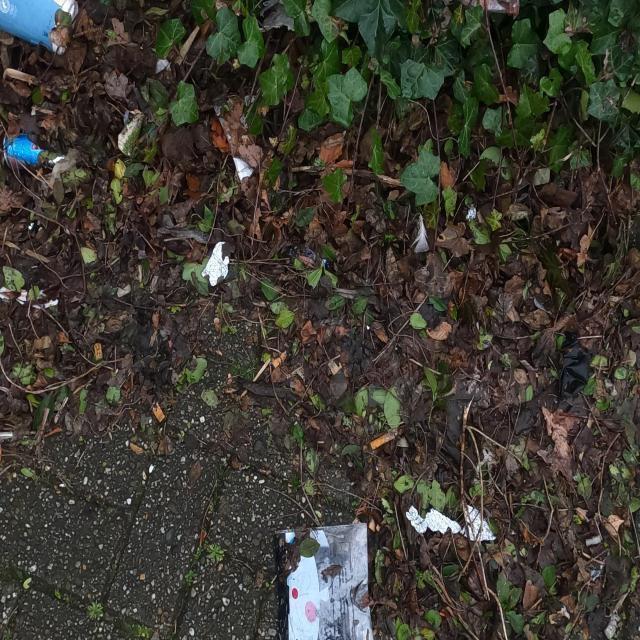Can-Metal: (0, 0, 79, 56), (2, 134, 70, 168)
Plastic: (284, 523, 376, 640)
